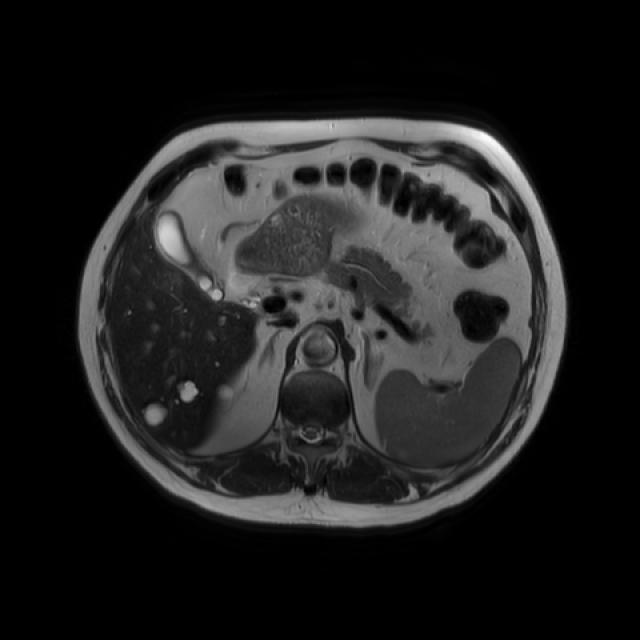sag: (218, 384, 235, 401)
